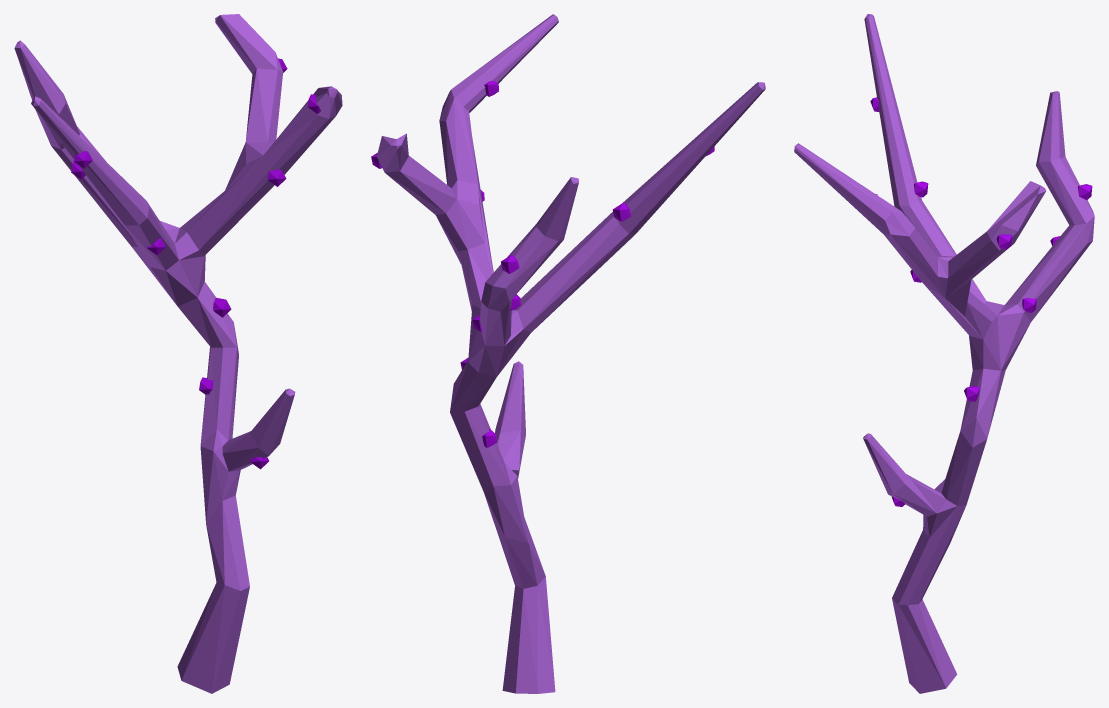
Rendered from Tree 3.fbx.
The picture shows the model from 3 angles, left to right: view 1: azimuth 30°, elevation 25°; view 2: azimuth 150°, elevation 25°; view 3: azimuth 270°, elevation 25°; orthographic projection. The views are drawn at different scales.
Visible parts, largest first — view 1: Plane.002; view 2: Plane.002; view 3: Plane.002.
Part boxes in pixels (x1=…): Plane.002: x1=14, y1=14, x2=342, y2=693; Plane.002: x1=371, y1=14, x2=765, y2=693; Plane.002: x1=794, y1=14, x2=1094, y2=693.
Size of the model in its own units: 547 by 1050 by 490.
